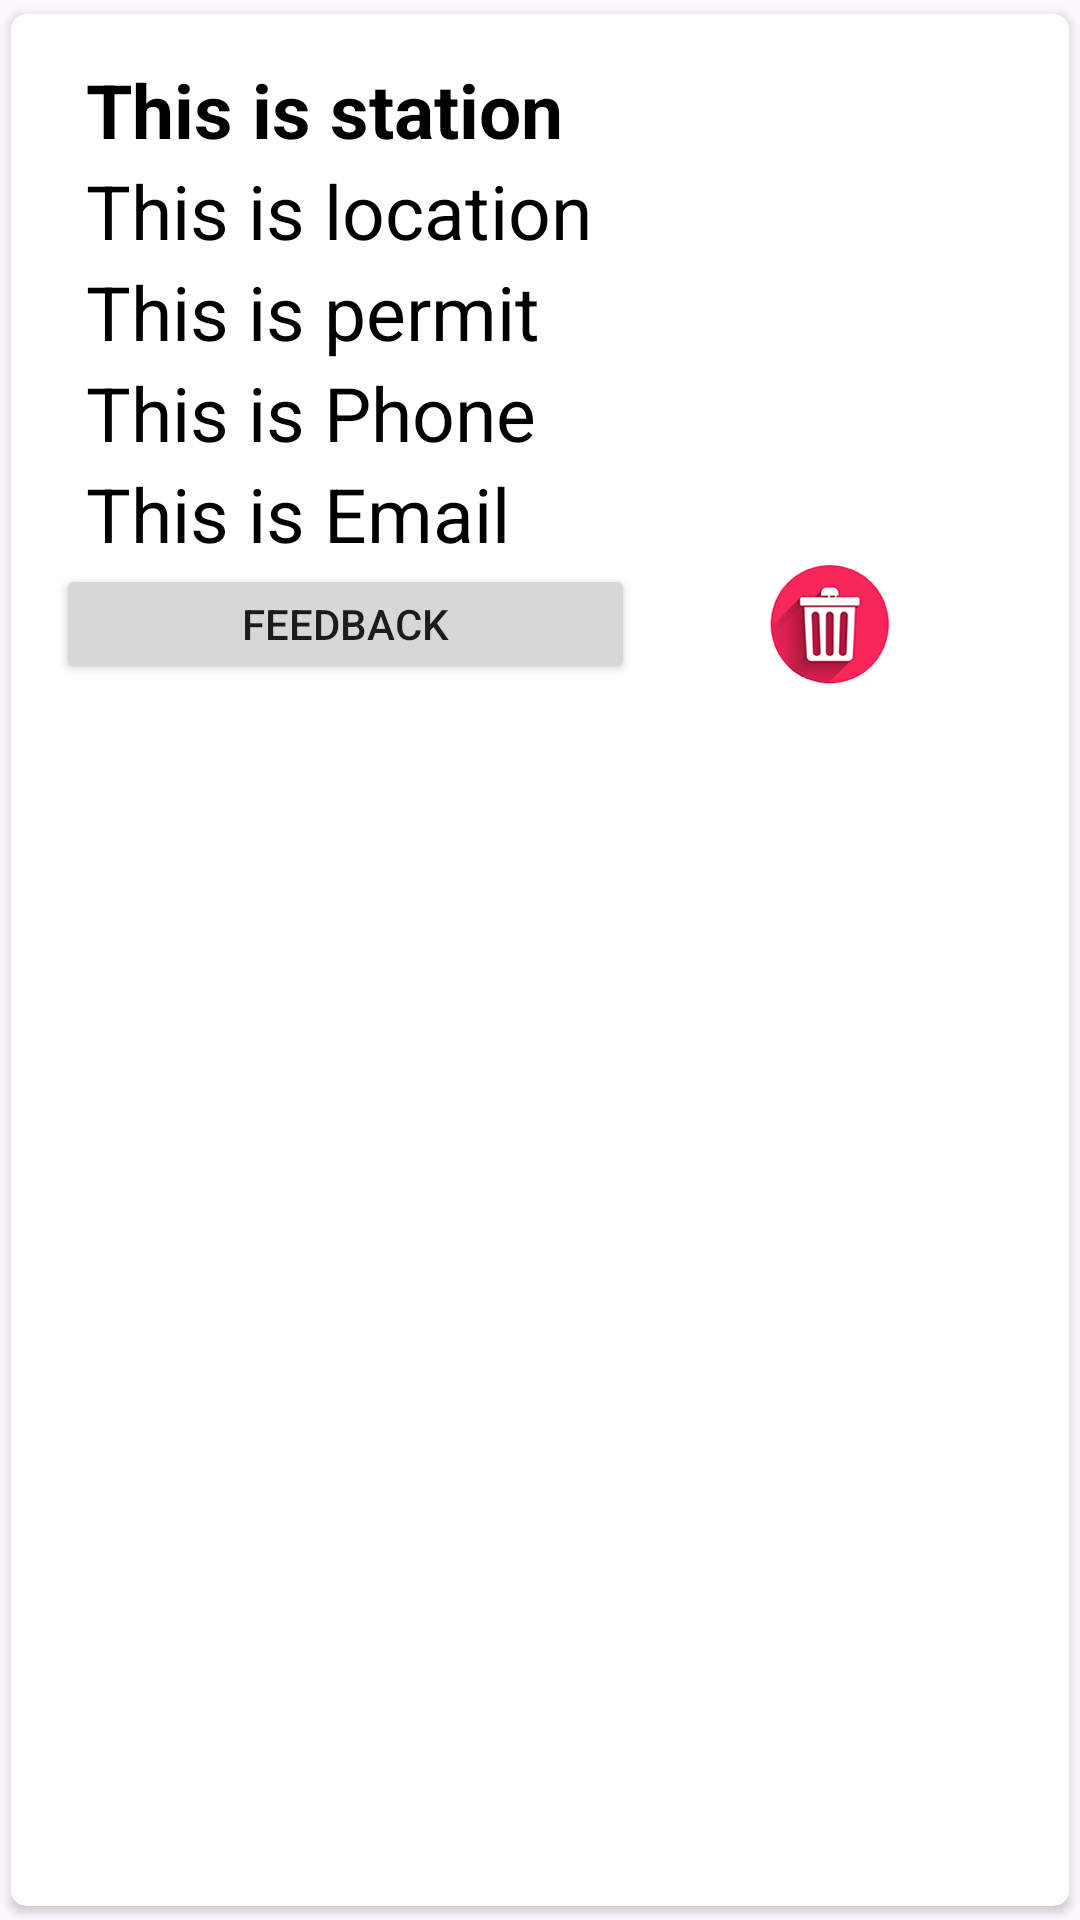

Screen size 1080w x 1920h. Icon name, then its center in pixels as point (x, y):
delete: point (830, 624)
